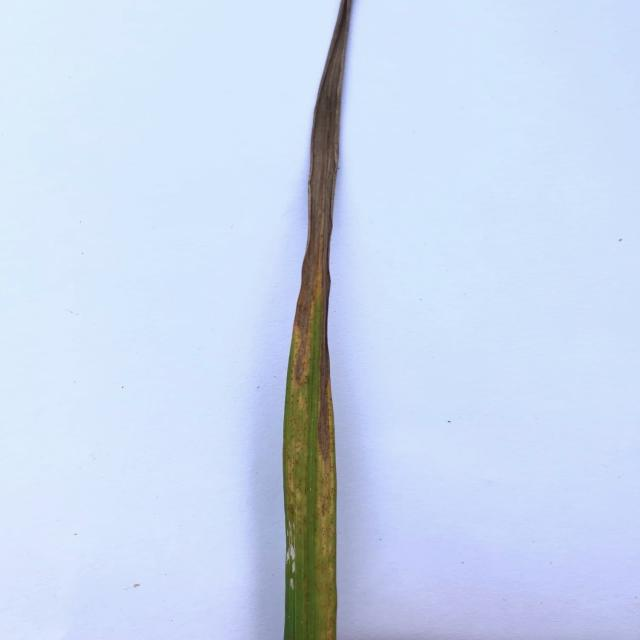tungro: (286, 122, 342, 548)
